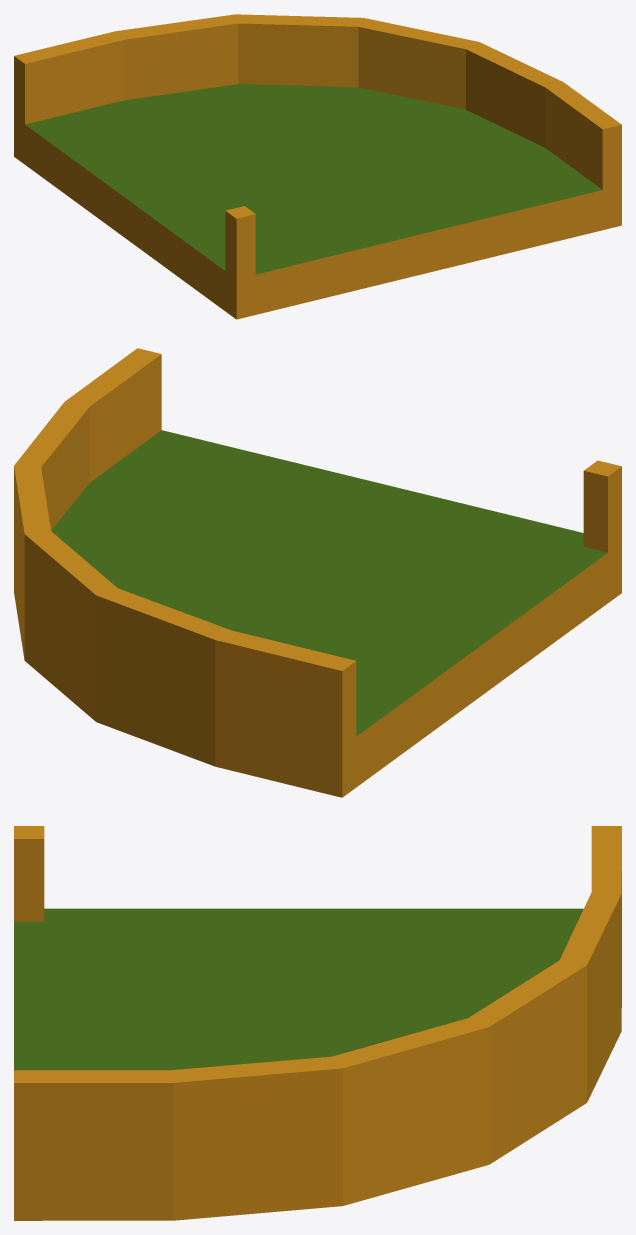
Rendered from 90_degree_corner_proto.fbx.
The picture shows the model from 3 angles, top to bottom: view 1: azimuth 30°, elevation 25°; view 2: azimuth 150°, elevation 25°; view 3: azimuth 270°, elevation 25°; orthographic projection. The views are drawn at different scales.
Parts seen in each view (by area): view 1: 90_degree_corner; view 2: 90_degree_corner; view 3: 90_degree_corner.
Part boxes in pixels (bbox=[...]): 90_degree_corner: bbox=[14, 14, 621, 319]; 90_degree_corner: bbox=[14, 348, 621, 797]; 90_degree_corner: bbox=[14, 826, 621, 1220].
Bounding box in the file's own units: 100 × 25 × 100.
